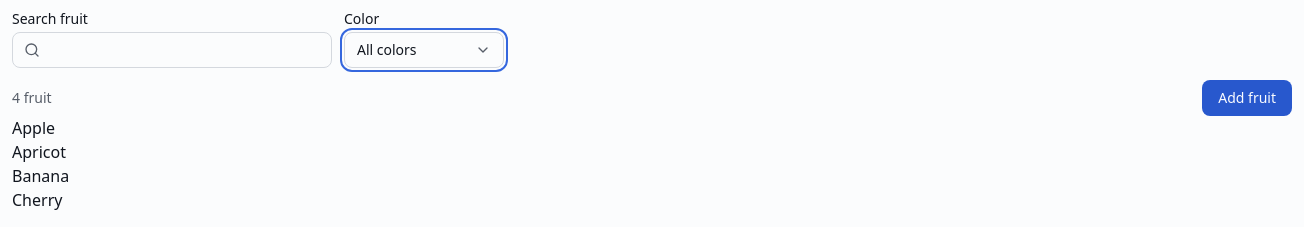
Test: DataToolbar › applies a filter chosen with the keyboard
The image size is (1304, 227).
Press Enter
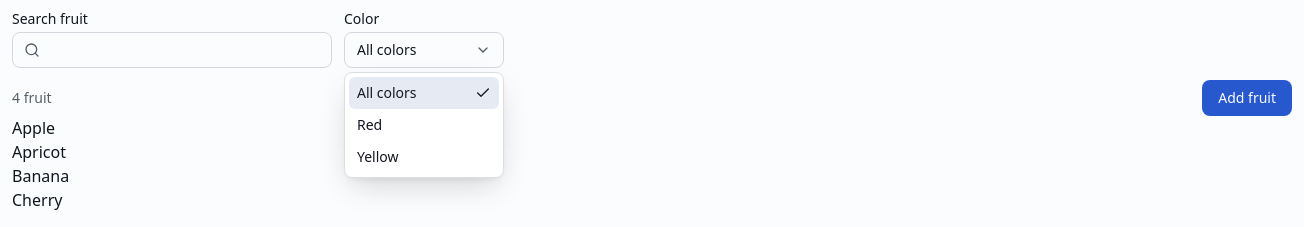
Click the option "Red" at (370, 124), box [357,115,382,134]
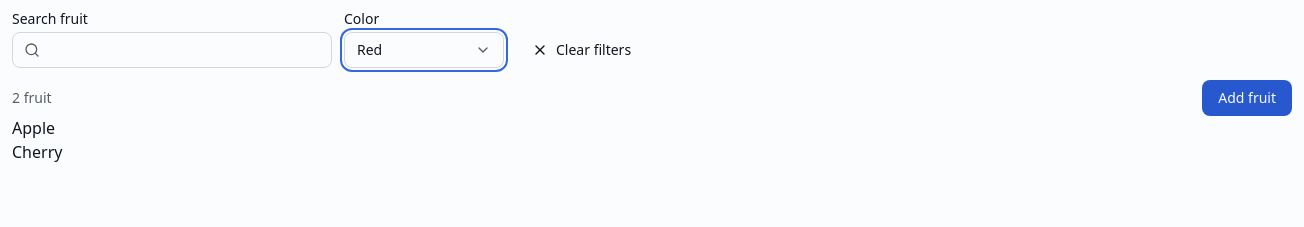
expect the dropdown named "Color" reads "Red": met, box [344,32,504,68]
expect the message reads "2 fruit": met, box [12,88,52,107]
expect the button "Clear filters" is shown: met, box [516,32,647,68]
